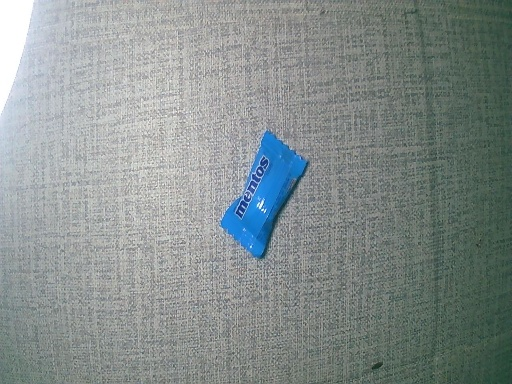plastic: (214, 131, 317, 271)
